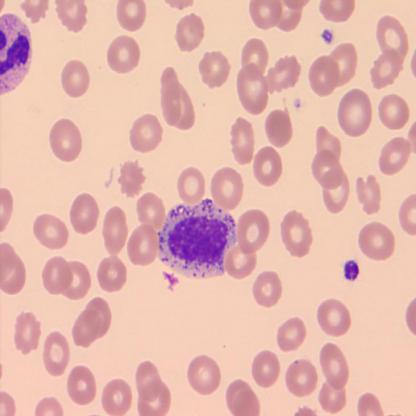Myelocyte: (160, 197, 238, 282)
